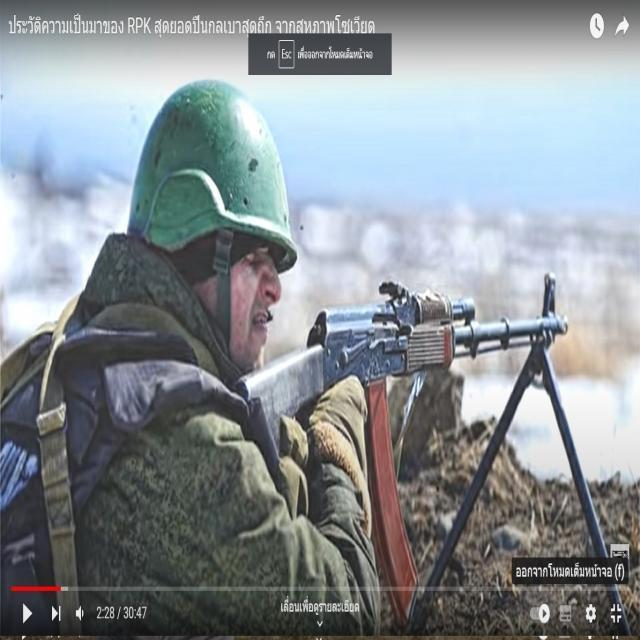ak: (240, 269, 568, 617)
